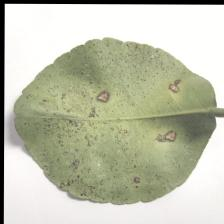canker: (45, 111, 105, 181)
